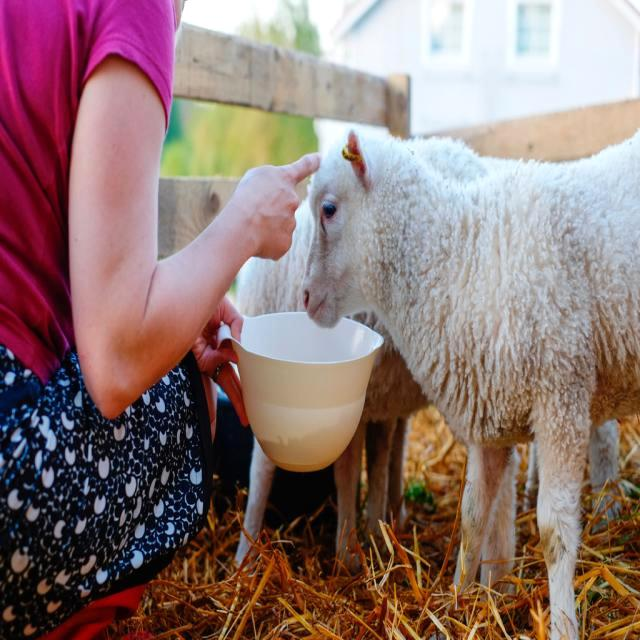sheep: (302, 131, 637, 639), (225, 134, 425, 553), (492, 155, 630, 528)
